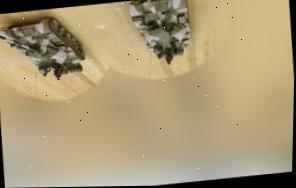tank: (0, 11, 88, 85), (123, 0, 194, 67)
